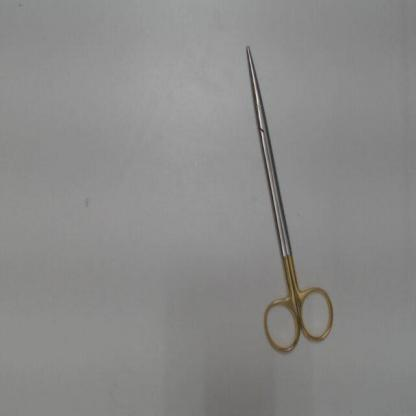7 Metzenbaum Scissors: (244, 41, 340, 361)
